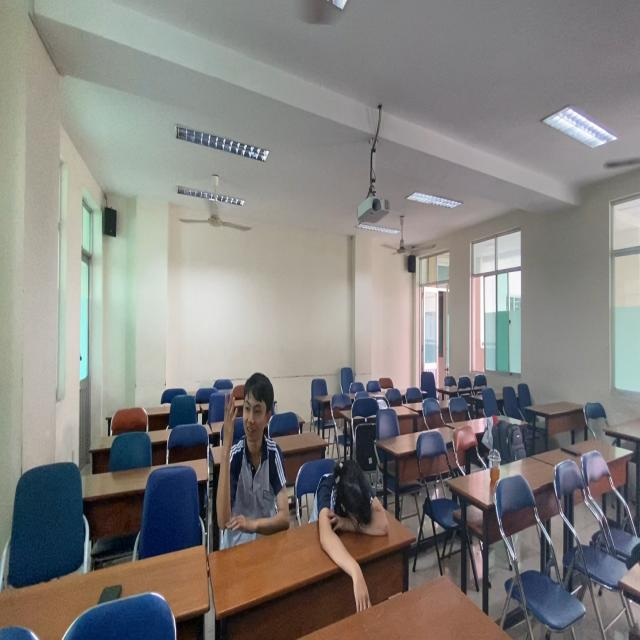raise_hand: (213, 365, 295, 547)
sleep: (310, 446, 400, 556)
